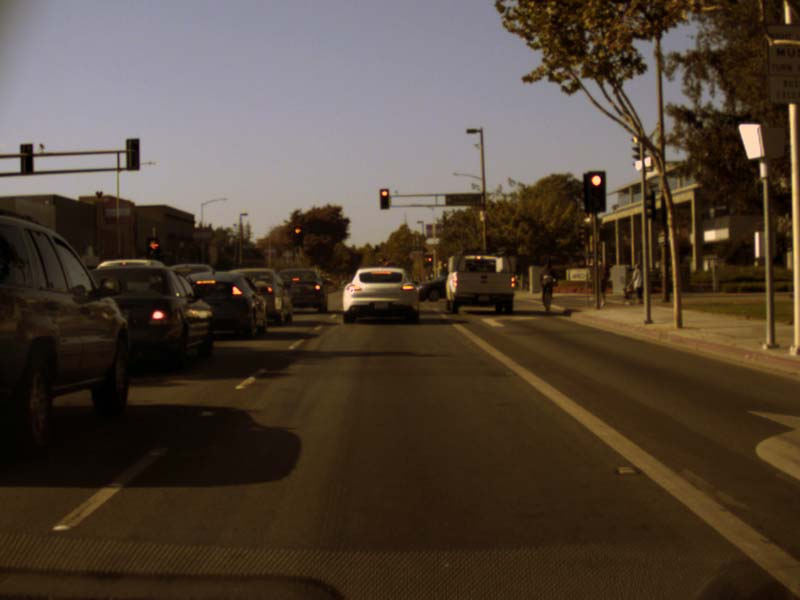Red: (585, 172, 605, 210), (147, 238, 158, 257), (293, 224, 302, 244), (379, 188, 388, 207), (427, 255, 432, 265)
